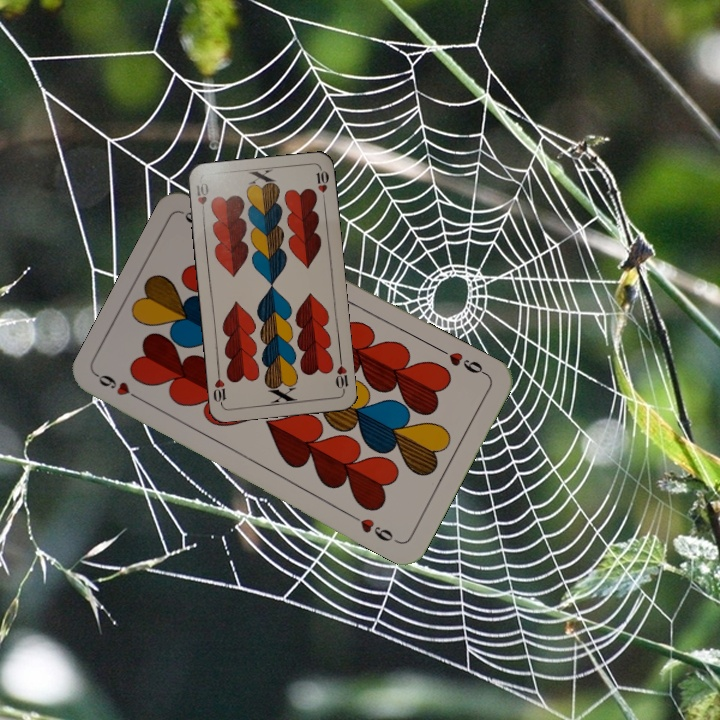H10: (332, 354, 351, 394), (192, 179, 211, 218)
H9: (94, 370, 148, 406), (435, 344, 490, 379)
